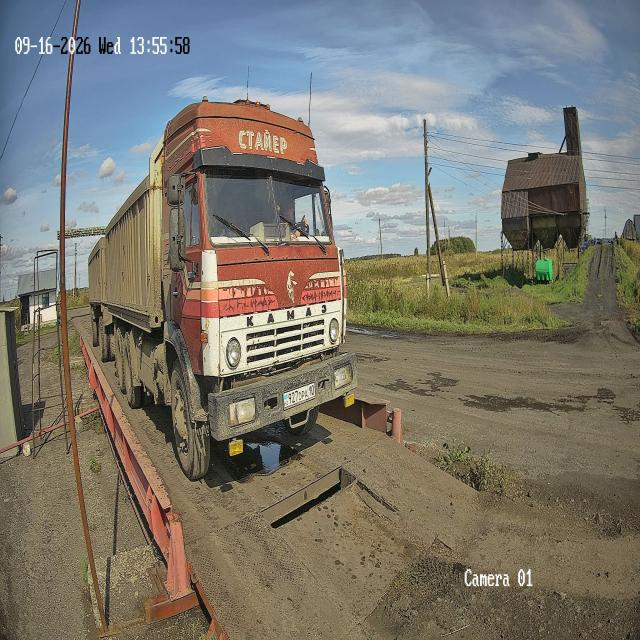license plate: (283, 383, 315, 408)
trailer: (88, 221, 112, 388), (151, 407, 152, 408)
truck: (110, 139, 364, 408)
